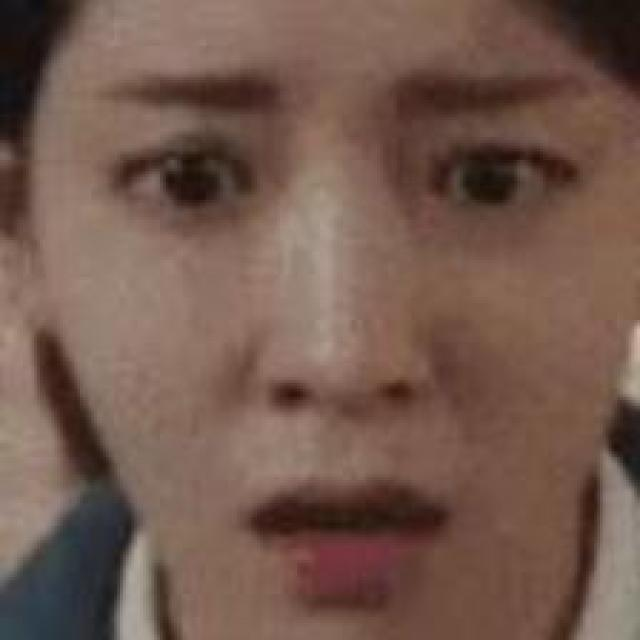fear: (94, 40, 606, 627)
